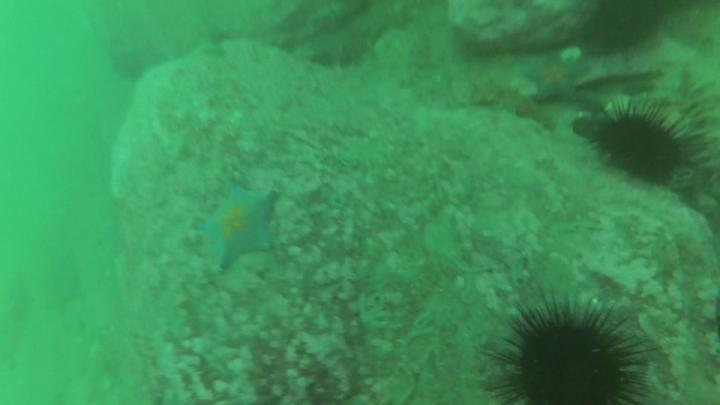echinus: (486, 290, 658, 405), (586, 104, 688, 189), (581, 1, 654, 57)
holothurian: (304, 1, 413, 70), (467, 78, 560, 133), (684, 54, 720, 196)
starfish: (201, 182, 285, 273), (519, 53, 594, 107)
